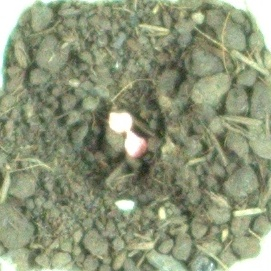chilli seed: (123, 129, 151, 159), (106, 109, 133, 134)
